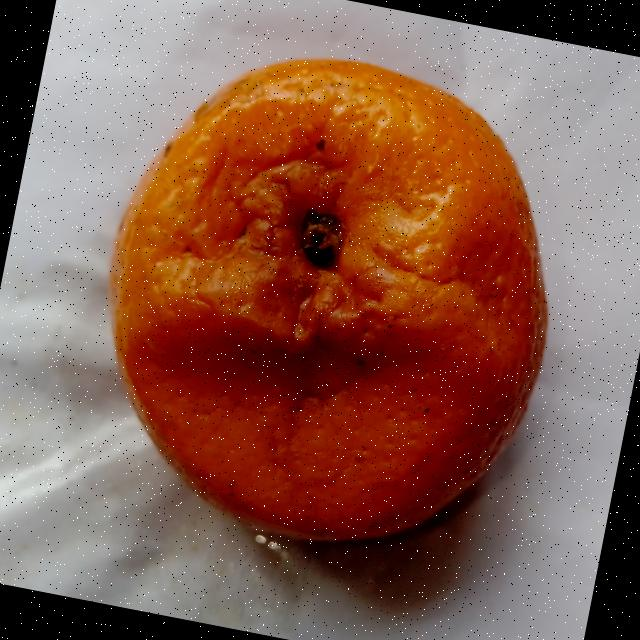Rotten: (68, 21, 591, 584)
